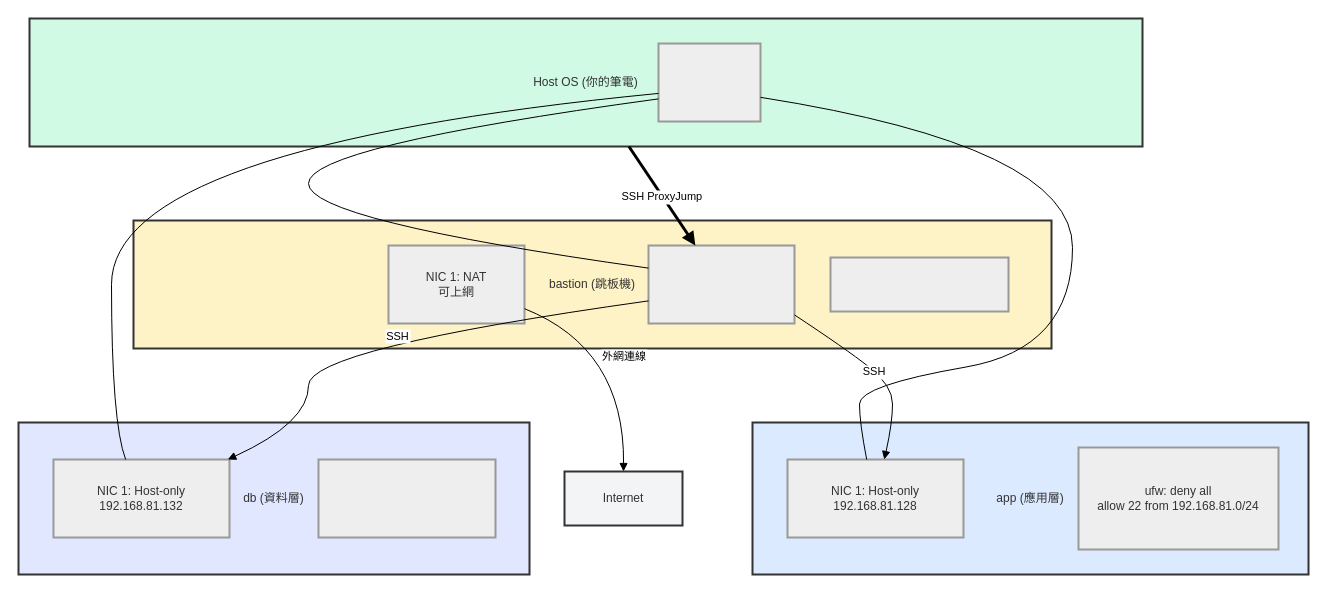
This 1326x592 diagram has some shape labels left out. Here are the shapes that lost their labels. From the top down, the centre of each, then its label:
the point at 709,82: VMnet1 Host-only 192.168.81.1
the point at 721,284: NIC 2: Host-only 192.168.81.130
the point at 919,284: ufw: 允許 22 埠自 ANY
the point at 406,498: ufw: deny all allow 22 from bastion
